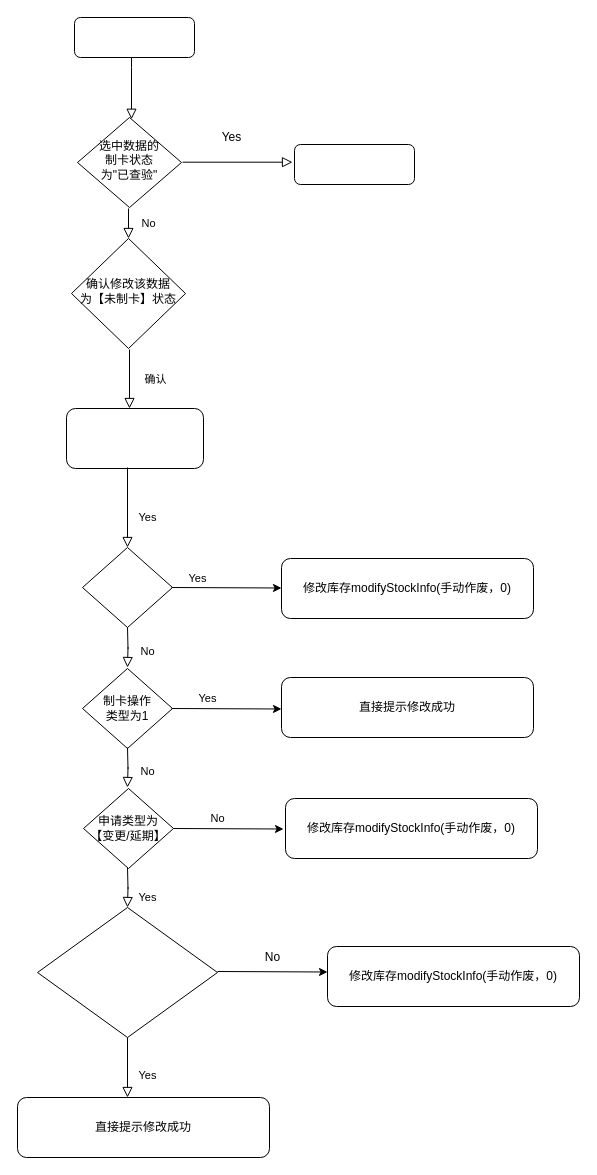
The diagram is 597 pixels wide and 1175 high, and some of its shapes have lost their labels. The shapes that lost their labels are listed below. From the top down, each one's centre as x and y in pixels, then its label:
At (134,37): "修改状态为未制卡".
At (354,164): "提示请选择制卡数据状态不是【已查验】".
At (135,438): "修改卡状态modifyCardState(1)".
At (127,587): "制卡操作 类型为0".
At (127,972): "申请类型为【变更/延期】， 确认未进行打印发行吗".
